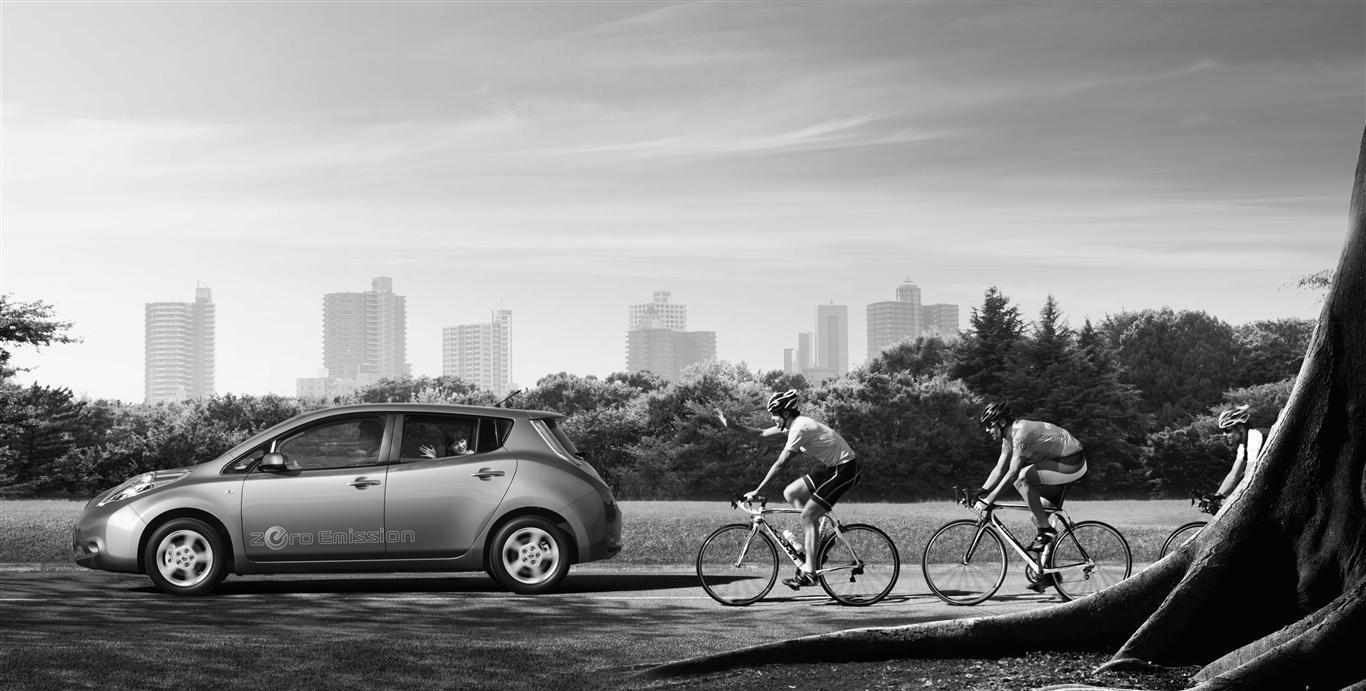car: (68, 398, 634, 603)
